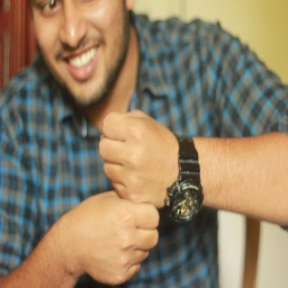G: (84, 101, 180, 288)
